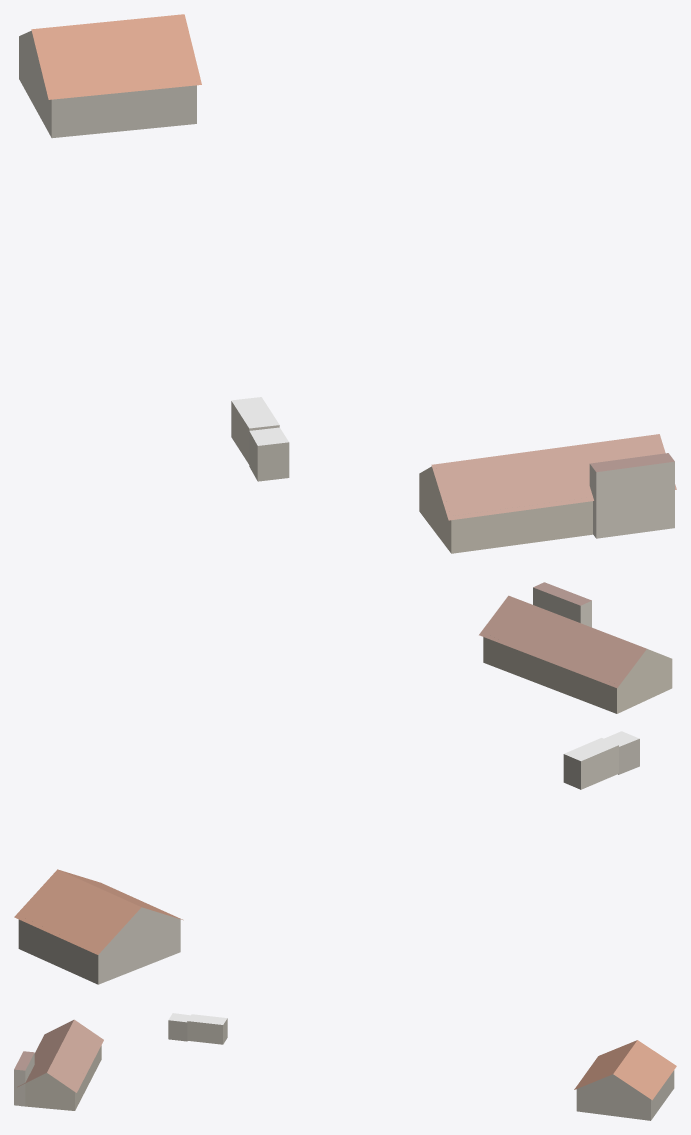
The picture shows the model from 3 angles, top to bottom: view 1: azimuth 30°, elevation 25°; view 2: azimuth 150°, elevation 25°; view 3: azimuth 270°, elevation 25°; orthographic projection. The views are drawn at different scales.
Visible parts, largest first — view 1: tuile; view 2: tuile; view 3: tuile.
Part boxes in pixels (bbox=[...]): tuile: bbox=[19, 14, 676, 553]; tuile: bbox=[14, 582, 672, 984]; tuile: bbox=[14, 1013, 676, 1120].
Size of the model in its own units: 35.04 by 8.53 by 105.
